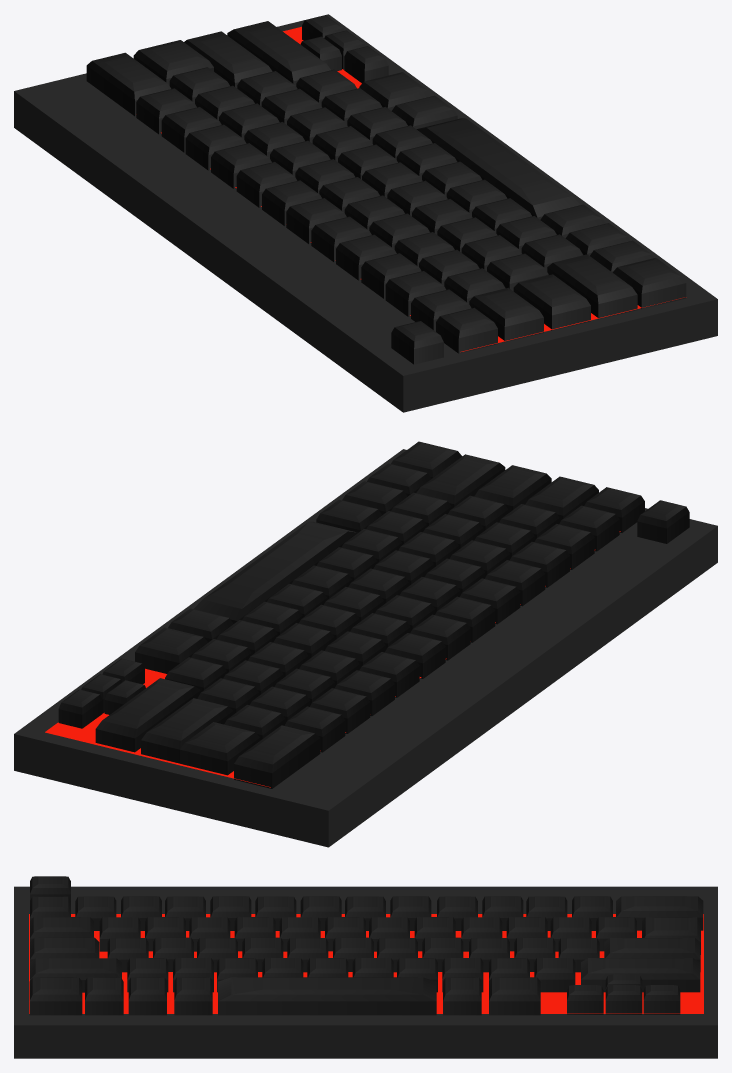
The model's file is GamingTastatura.glb.
The picture shows the model from 3 angles, top to bottom: view 1: azimuth 30°, elevation 25°; view 2: azimuth 150°, elevation 25°; view 3: azimuth 270°, elevation 25°; orthographic projection. The views are drawn at different scales.
Parts seen in each view (by area): view 1: Cube.101; view 2: Cube.101; view 3: Cube.101.
Part boxes in pixels (<box>): Cube.101: <box>14,14,717,412</box>; Cube.101: <box>14,441,717,847</box>; Cube.101: <box>14,876,717,1058</box>.
Bounding box in the file's own units: 0.8939 × 0.1661 × 1.92.
Materials: 2 (1 with a texture image).
